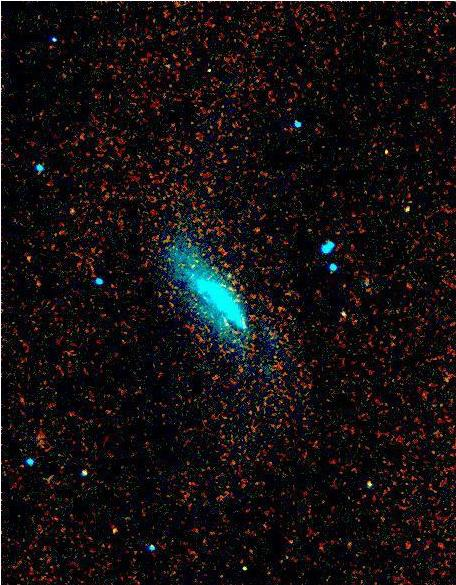star: (56, 200, 86, 230)
